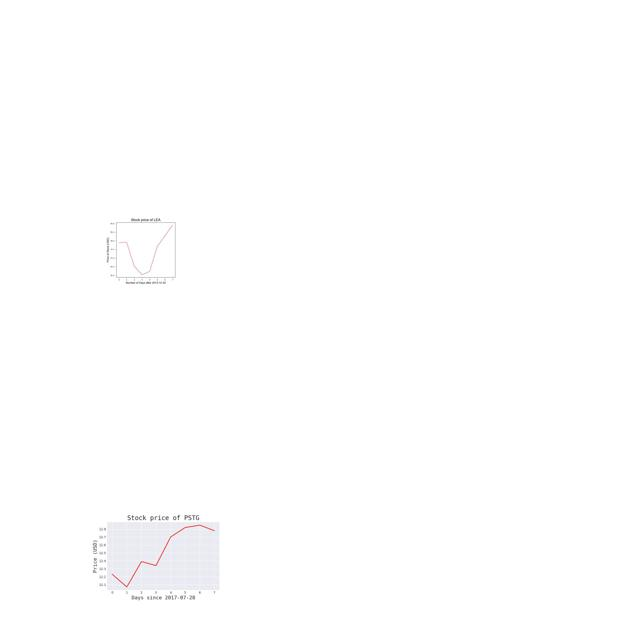Graph: (89, 501, 234, 610), (93, 214, 196, 285)
